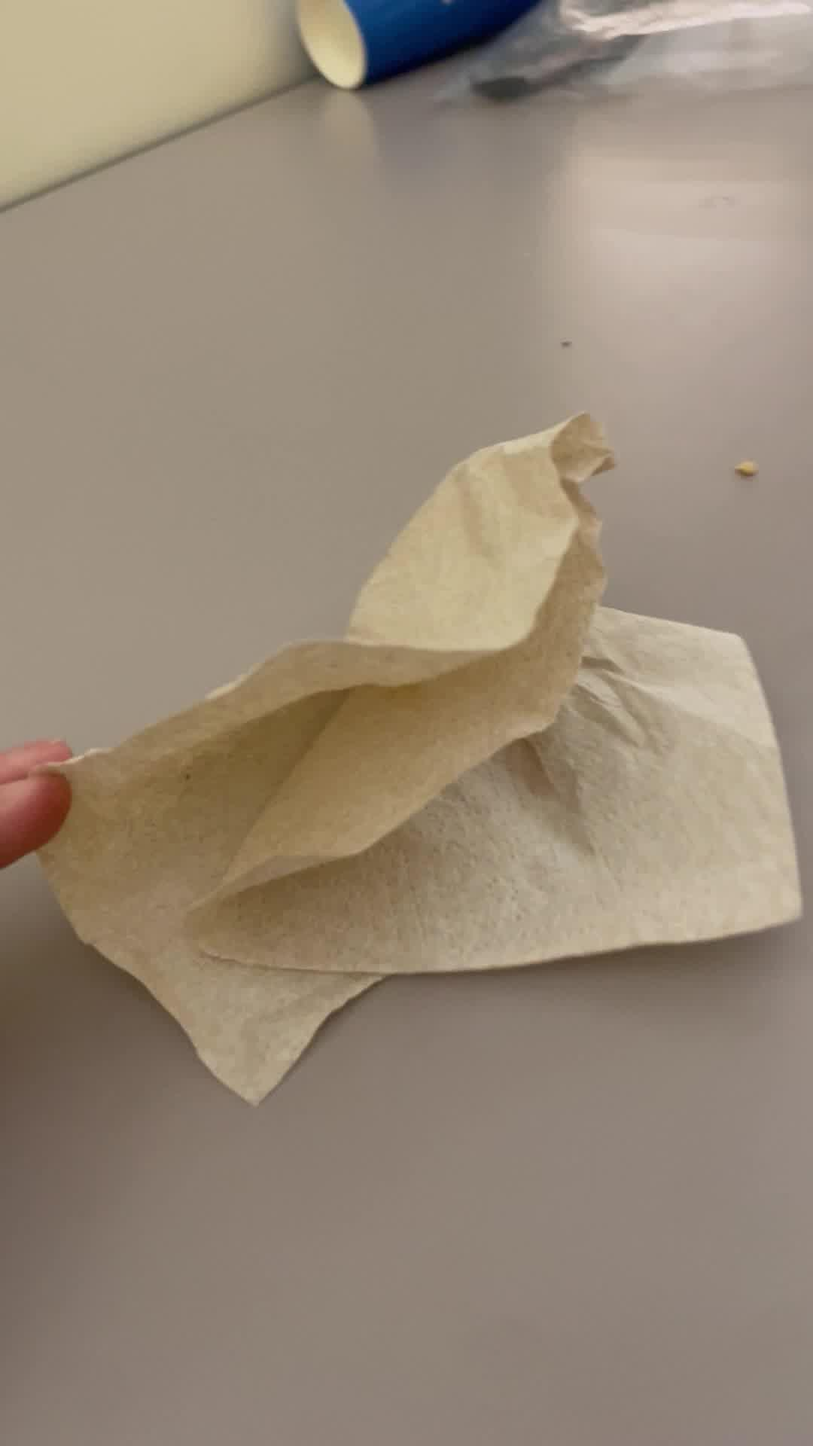napkin: (0, 362, 813, 1152)
